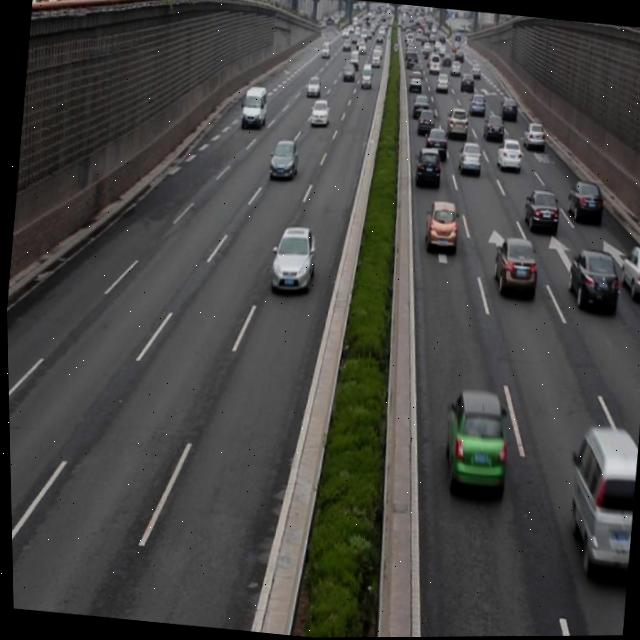car: (437, 389, 509, 500), (563, 249, 618, 311), (266, 225, 316, 293), (488, 236, 536, 297), (420, 200, 456, 252), (562, 180, 601, 225), (521, 188, 558, 231), (616, 242, 640, 296), (267, 139, 297, 181), (492, 135, 522, 173), (411, 145, 439, 185), (422, 124, 447, 160), (456, 141, 481, 177)
truck: (560, 424, 640, 576), (240, 84, 268, 127)
